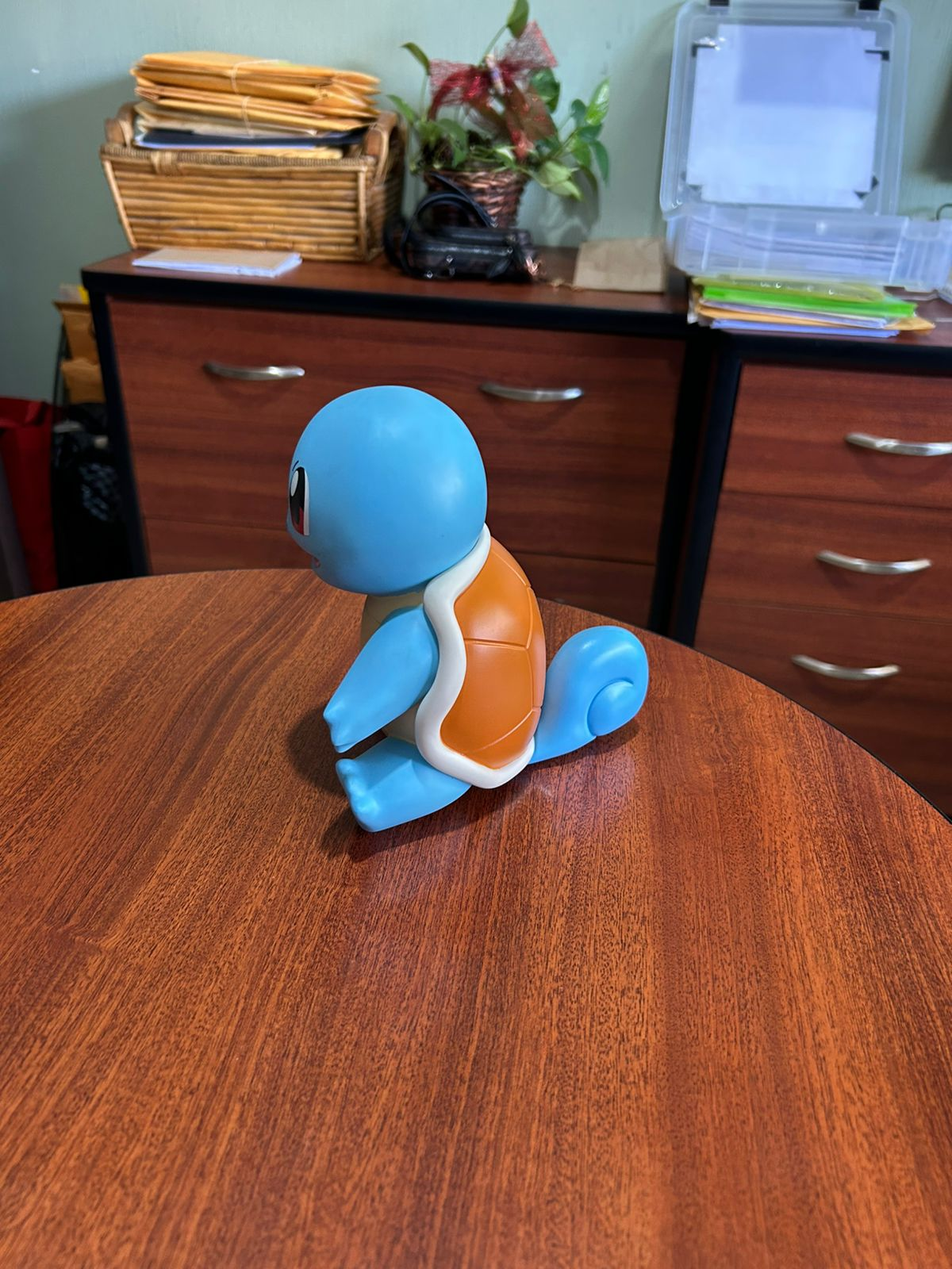Squirtle: (289, 386, 647, 830)
